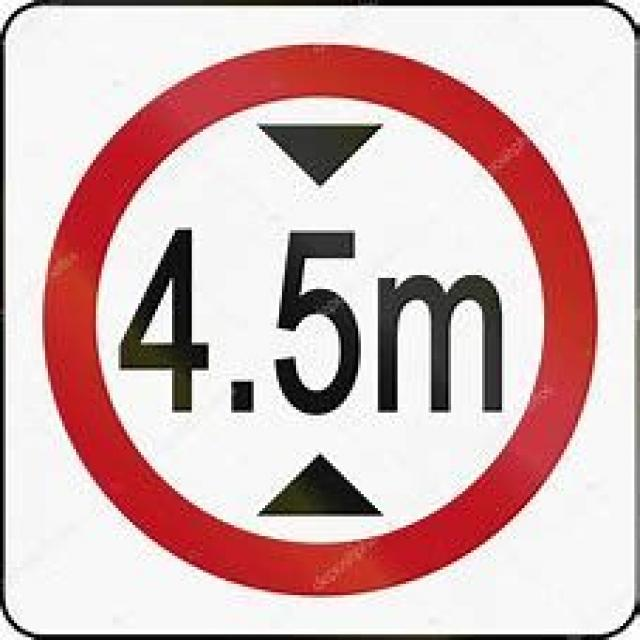HEIGHT_LIMIT: (42, 42, 598, 590)
